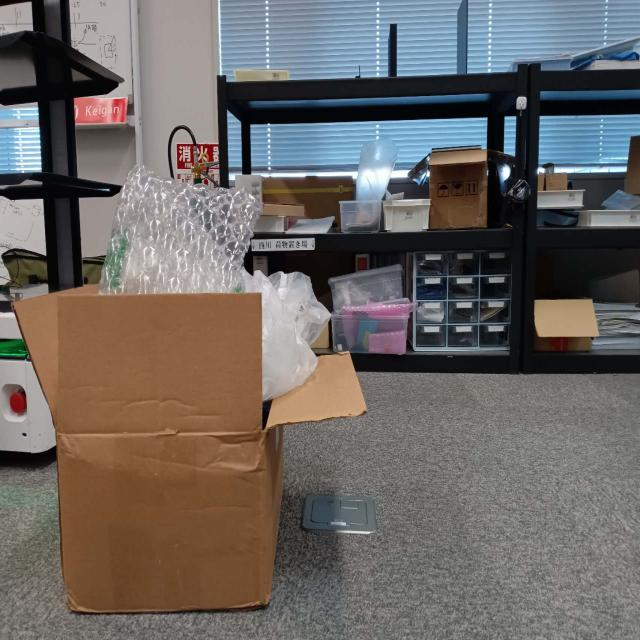box: (50, 288, 288, 609)
